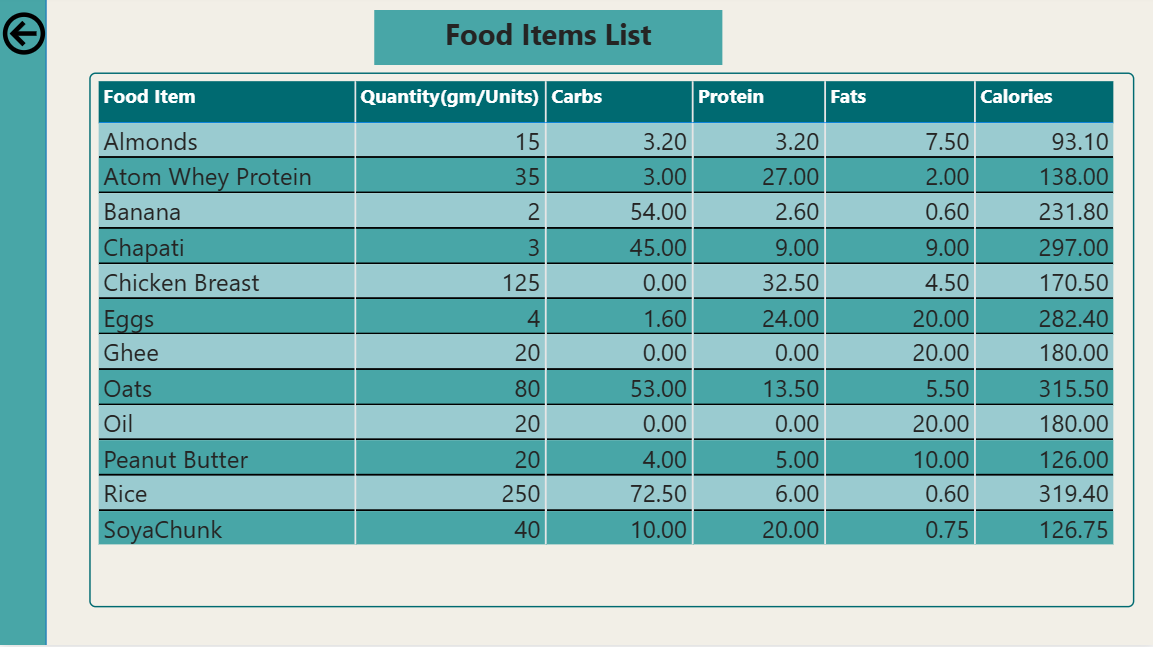

The dashboard page shown, as its layout file describes it:
{"tool":"powerbi","page":{"name":"Food_Items","canvas":[1280,720],"ordinal":1},"visuals":[{"type":"tableEx","fields":{"Values":["Food_Log.Food_Item","Min(Food_Log.Quantity)","Min(Food_Log.Carbs)","Min(Food_Log.Protein)","Min(Food_Log.Fats)","Min(Food_Log.Calories)"]},"box":[100.9,85.7,1155.1,591.4],"z":0},{"type":"textbox","box":[415.7,16.3,384.7,60.7],"z":1000},{"type":"shape","box":[0,0,53.8,720.2],"z":2001},{"type":"actionButton","box":[0,8.2,57.4,68.9],"z":2501}]}

Visuals, with their boxes in screenshot pixels (x1, y1, x2, y2), scaled from the page's 1280x720 canvas onto the 1153x647 screenshot:
tableEx - Food_Log.Food_Item x Min(Food_Log.Quantity): region(91, 77, 1131, 608)
textbox: region(374, 15, 721, 69)
shape: region(0, 0, 48, 646)
actionButton: region(0, 7, 52, 69)
